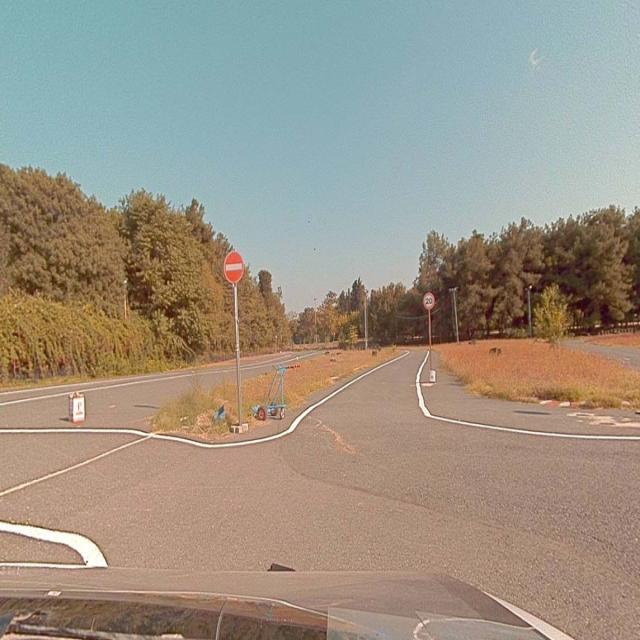20: (424, 292, 434, 308)
girisyok: (224, 251, 243, 282)
